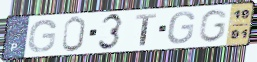0: (61, 15, 87, 53)
3: (96, 13, 129, 52)
G: (196, 8, 229, 44), (26, 18, 58, 54), (166, 10, 197, 46)
T: (134, 13, 158, 47)
